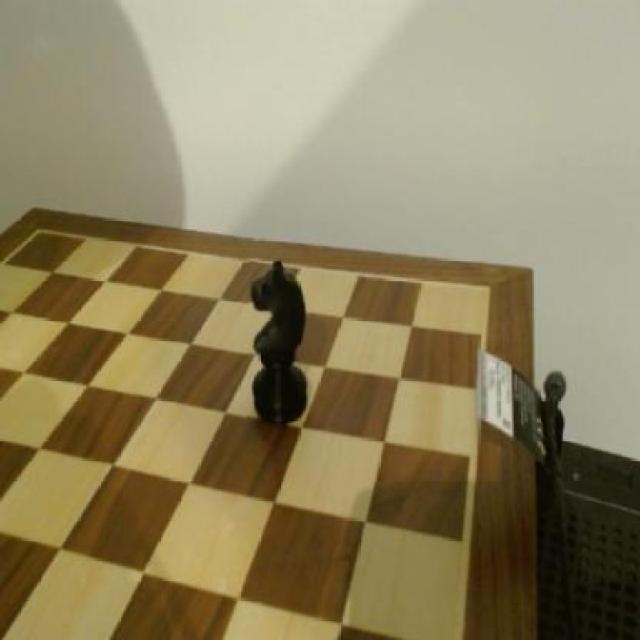black-king: (248, 258, 318, 432)
